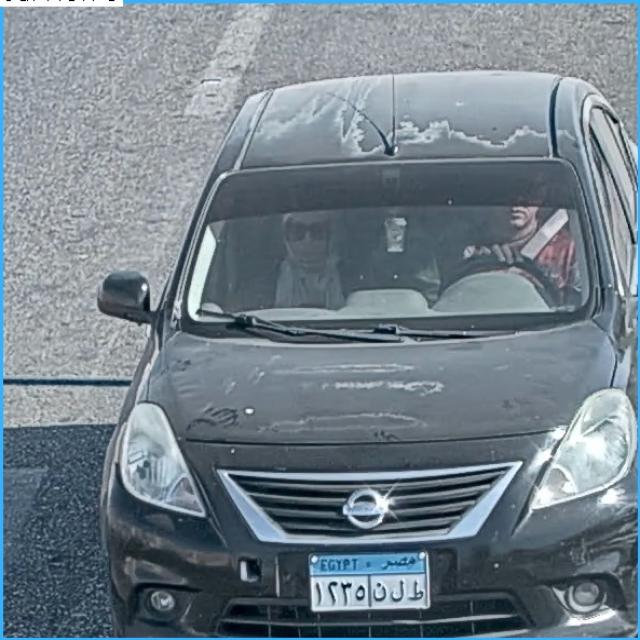windshield: (177, 172, 595, 326)
